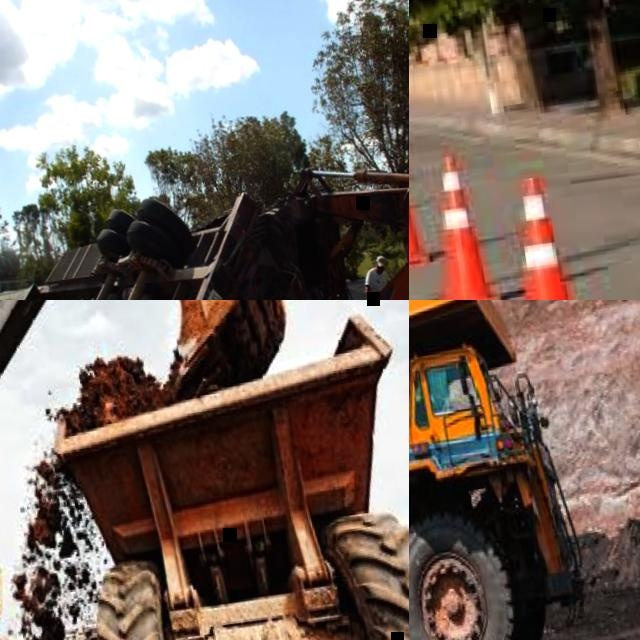NO-Hardhat: (375, 251, 386, 266)
NO-Mask: (375, 269, 383, 275)
NO-Safety Vest: (368, 268, 387, 293)
Person: (360, 252, 402, 300), (411, 379, 447, 427)
Safety Cone: (488, 168, 605, 300), (419, 152, 494, 300), (409, 134, 425, 268)
Safety Vest: (415, 390, 443, 416)
machinery: (38, 301, 409, 640), (0, 300, 336, 640), (409, 300, 600, 640), (0, 149, 409, 300)
